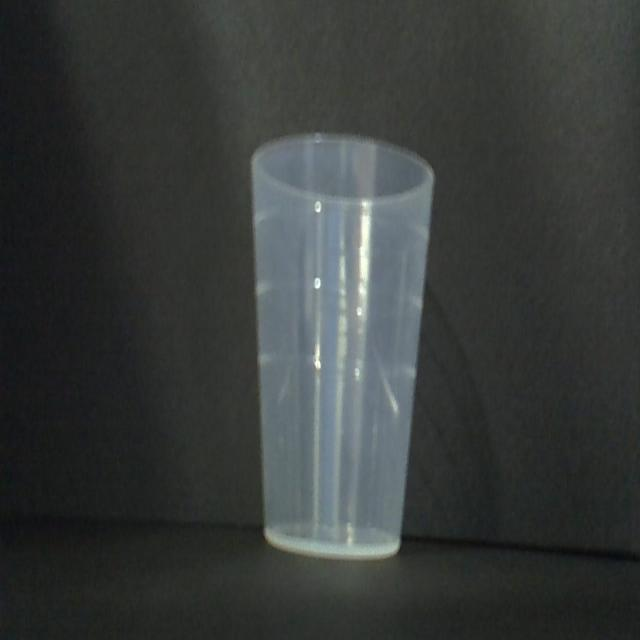cup: (248, 127, 435, 562)
